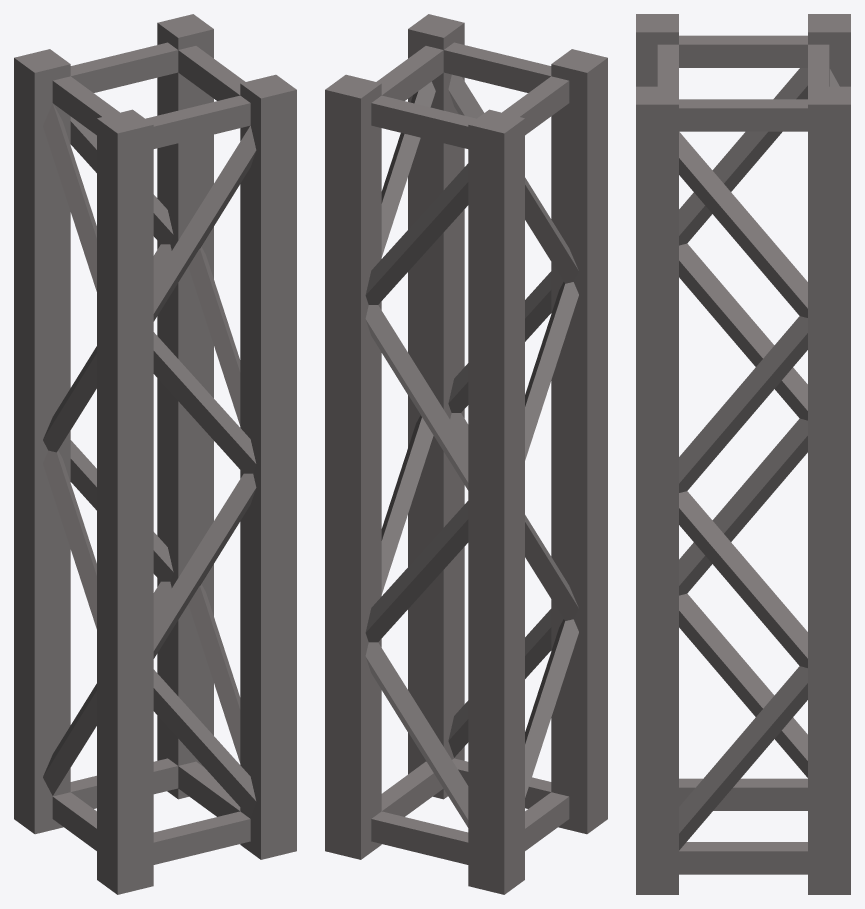
The model's file is stage-truss.glb.
3 renders of one model, left to right at view 1: azimuth 30°, elevation 25°; view 2: azimuth 150°, elevation 25°; view 3: azimuth 270°, elevation 25°, orthographic. The views are drawn at different scales.
Parts seen in each view (by area): view 1: stage-truss; view 2: stage-truss; view 3: stage-truss.
Boxes of the visible parts, x1,y1,x2,y2 form: stage-truss: (14,14,296,894); stage-truss: (325,14,607,894); stage-truss: (636,14,850,894).
Size of the model in its own units: 0.5002 by 2.03 by 0.5002.
1 material, 1 textured.
